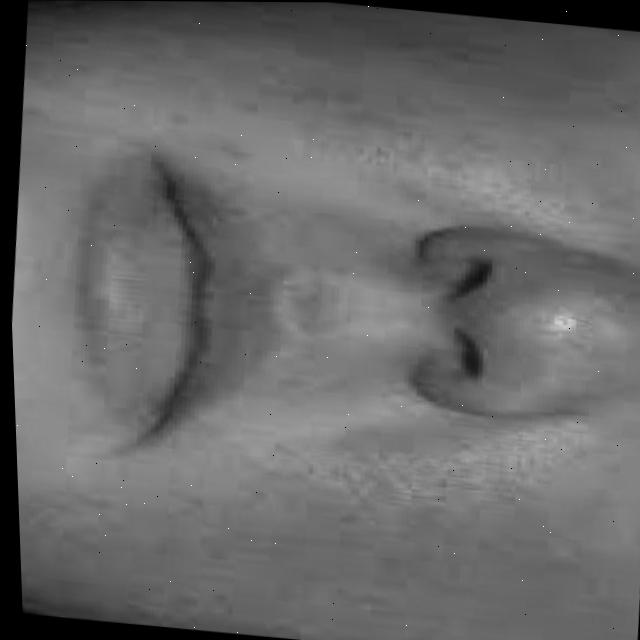Rosacea: (48, 431, 640, 640), (309, 21, 640, 223)
